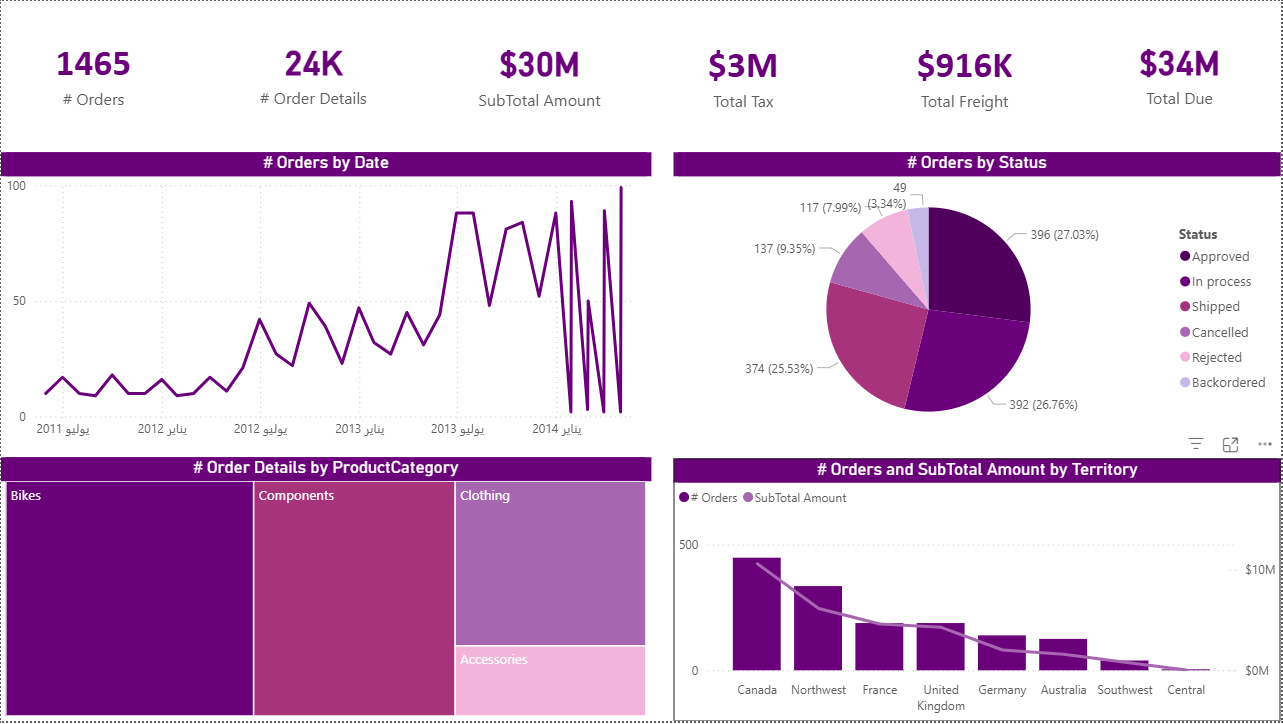

The dashboard page shown, as its layout file describes it:
{"tool":"powerbi","page":{"name":"Orders","canvas":[1280,720],"ordinal":0},"visuals":[{"type":"card","fields":{"Values":["Dax Measures.# Orders"]},"box":[0,1.2,185.3,138.7],"z":0},{"type":"card","fields":{"Values":["Dax Measures.# Order Details"]},"box":[219.6,0,185.2,140],"z":1000},{"type":"card","fields":{"Values":["Dax Measures.SubTotal Amount"]},"box":[446,1.4,185,140],"z":2000},{"type":"card","fields":{"Values":["Dax Measures.Total Tax"]},"box":[650.5,2.7,185,140],"z":3000},{"type":"card","fields":{"Values":["Dax Measures.Total Freight"]},"box":[871.2,2.5,185.3,139.9],"z":4000},{"type":"card","fields":{"Values":["Dax Measures.Total Due"]},"box":[1086.8,0,185,140],"z":5000},{"type":"lineChart","fields":{"Y":["Dax Measures.# Orders"],"Category":["DimOrderDates.Date"]},"box":[0,150.9,650.3,294.5],"z":6000},{"type":"treemap","fields":{"Values":["Dax Measures.# Order Details"],"Group":["DimProducts.ProductCategory","DimProducts.ProductSubCategory","DimProducts.Product"]},"box":[0,456.2,650,263.8],"z":7000},{"type":"pieChart","fields":{"Y":["Dax Measures.# Orders"],"Category":["DimStatus.Status"]},"box":[672.4,150.9,607.4,295.7],"z":8000},{"type":"lineClusteredColumnComboChart","fields":{"Category":["DimTerritories.Territory"],"Y":["Dax Measures.# Orders"],"Y2":["Dax Measures.SubTotal Amount"]},"box":[672,457,608,263],"z":9000}]}

Visuals, with their boxes in screenshot pixels (x1, y1, x2, y2), scaled from the page's 1280x720 canvas onto the 1283x724 screenshot:
card - Dax Measures.# Orders: (0, 1, 186, 141)
card - Dax Measures.# Order Details: (220, 0, 406, 141)
card - Dax Measures.SubTotal Amount: (447, 1, 632, 142)
card - Dax Measures.Total Tax: (652, 3, 837, 143)
card - Dax Measures.Total Freight: (873, 3, 1059, 143)
card - Dax Measures.Total Due: (1089, 0, 1275, 141)
lineChart - Dax Measures.# Orders x DimOrderDates.Date: (0, 152, 652, 448)
treemap - Dax Measures.# Order Details x DimProducts.ProductCategory: (0, 459, 652, 723)
pieChart - Dax Measures.# Orders x DimStatus.Status: (674, 152, 1282, 449)
lineClusteredColumnComboChart - DimTerritories.Territory x Dax Measures.# Orders: (674, 460, 1282, 723)
